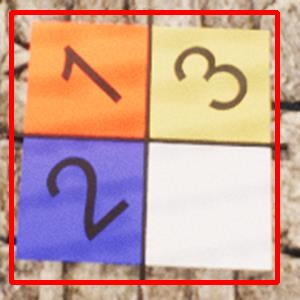nfpa: (11, 12, 277, 282)
